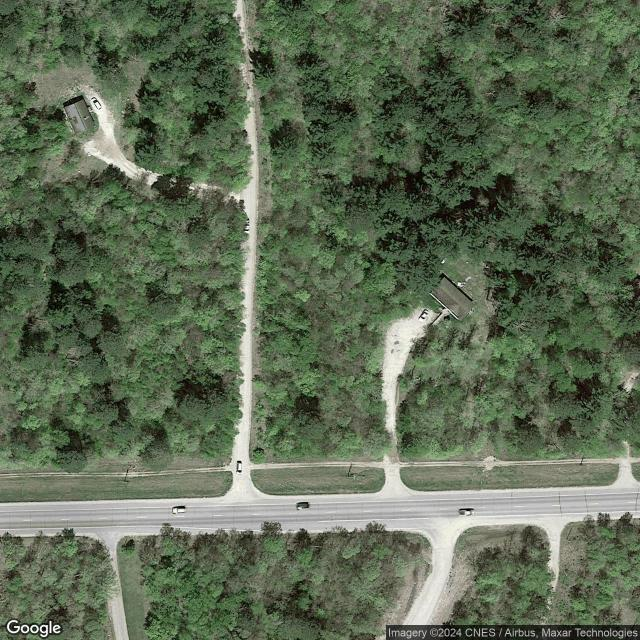Propane: (439, 256, 448, 267)
